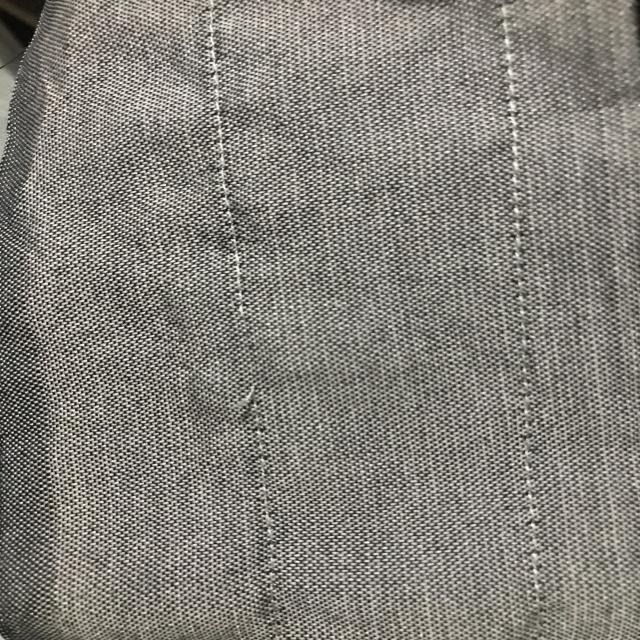broken: (220, 309, 303, 444)
good: (214, 178, 247, 253)
